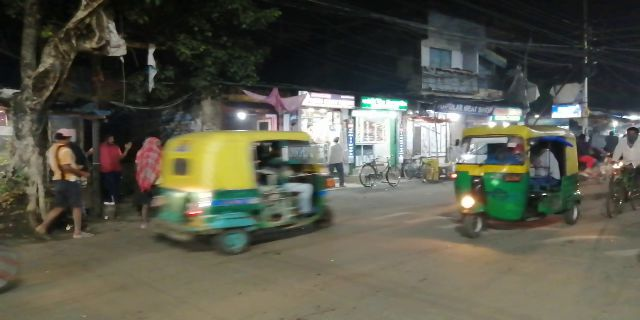Autorickshaw: (159, 129, 329, 253), (453, 127, 578, 237)
